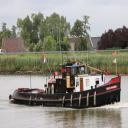tugboat: (10, 52, 122, 112)
